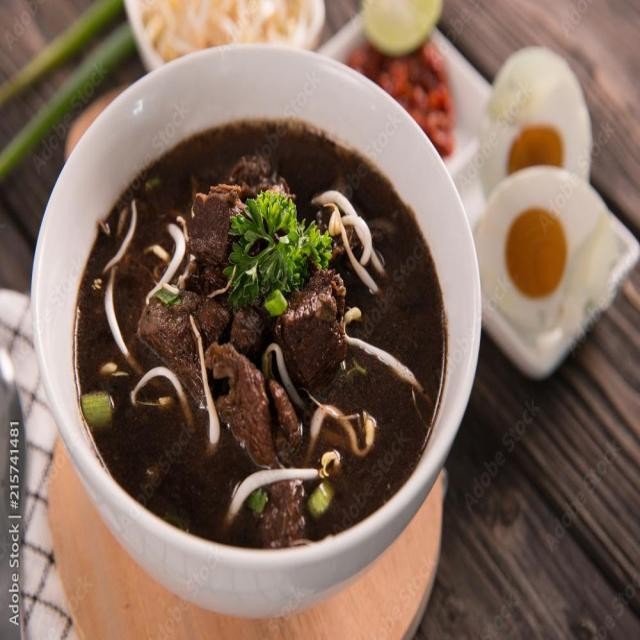Rawon: (60, 103, 448, 529)
